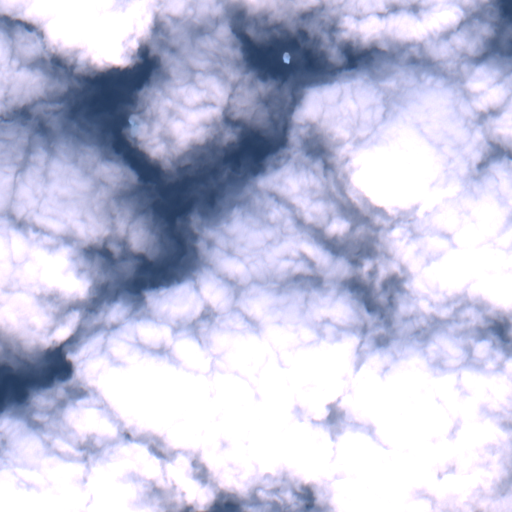Iceberg: (128, 115, 143, 137), (282, 52, 290, 63)
